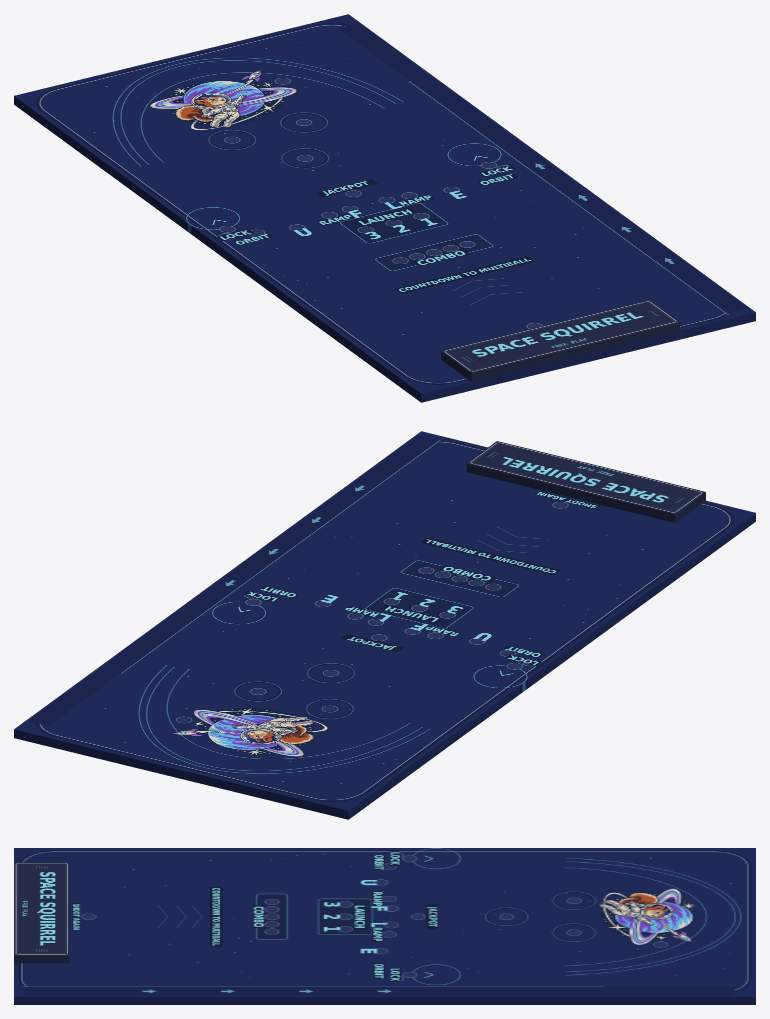
File: Space_Playfield.glb
3 views of the same model, one above another, from view 1: azimuth 30°, elevation 25°; view 2: azimuth 150°, elevation 25°; view 3: azimuth 270°, elevation 25° (orthographic). The views are drawn at different scales.
Parts seen in each view (by area): view 1: Board, Apron; view 2: Board, Apron; view 3: Board, Apron.
Part boxes in pixels (<box>): Board: <box>14,14,755,402</box>; Apron: <box>441,300,679,381</box>; Board: <box>14,431,755,819</box>; Apron: <box>466,441,705,522</box>; Board: <box>14,848,755,1004</box>; Apron: <box>14,862,69,963</box>.
Size of the model in its own units: 0.672 by 0.0336 by 1.42.
2 materials, 2 textured.
